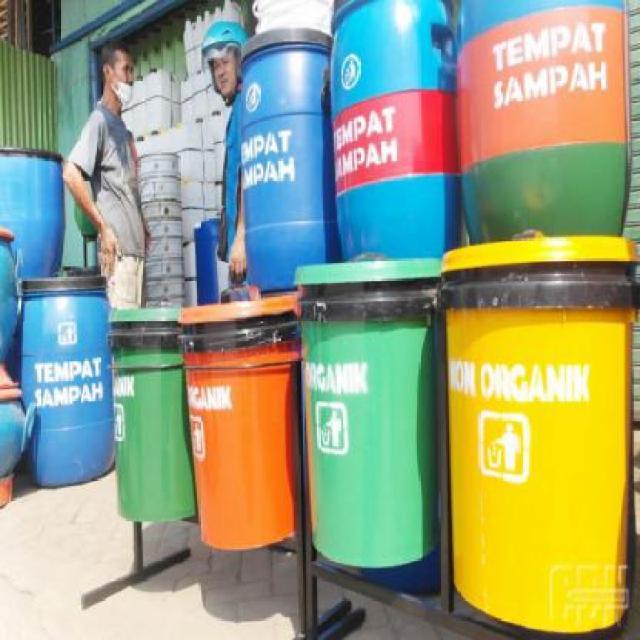garbage container: (437, 236, 638, 639), (294, 251, 444, 580), (456, 1, 636, 242), (174, 287, 304, 555), (329, 1, 458, 259), (230, 24, 332, 287), (98, 303, 200, 531), (15, 272, 120, 492), (1, 137, 67, 288)
